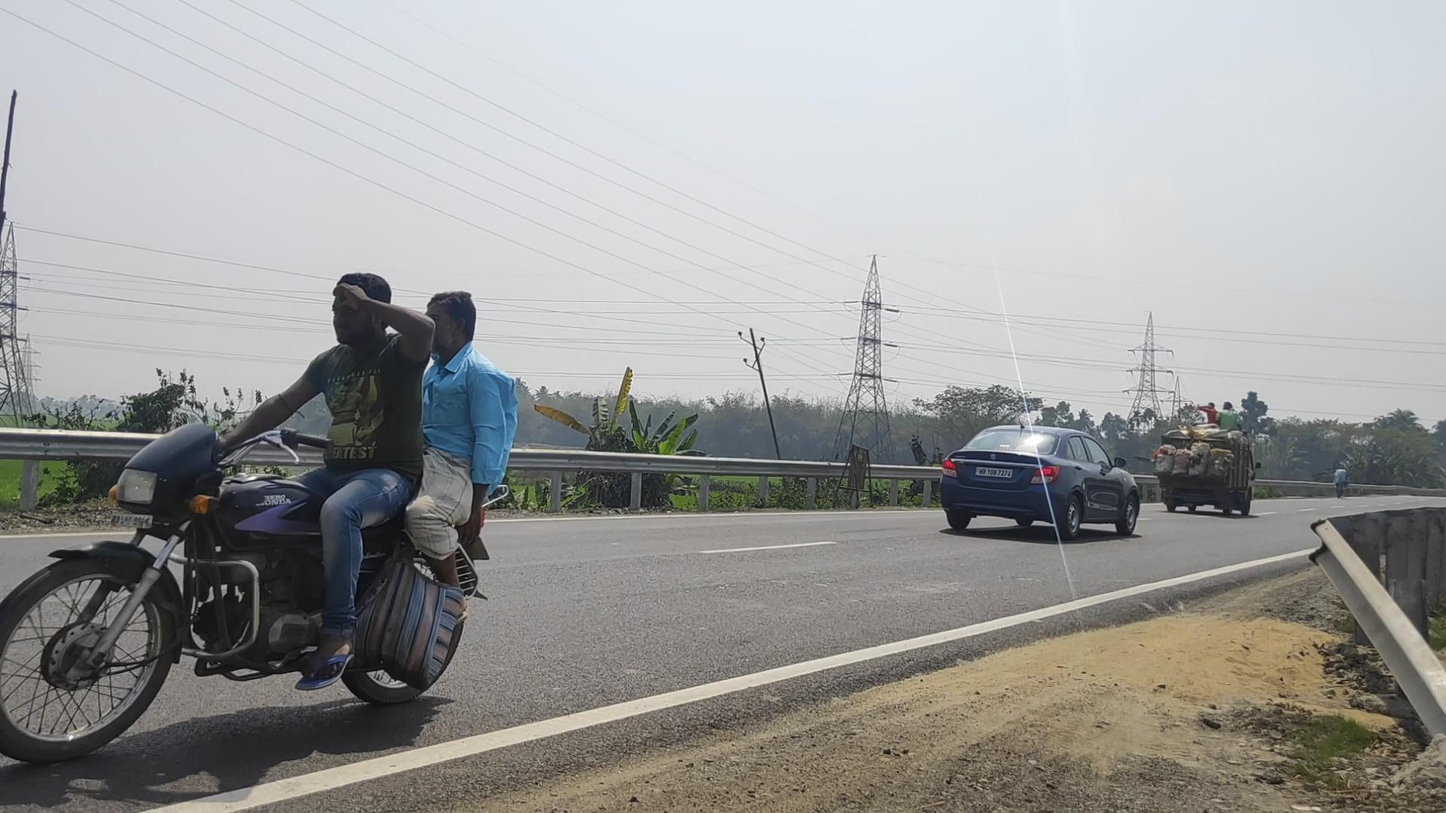bike: (1, 273, 517, 766)
car: (939, 425, 1141, 541)
van: (1156, 402, 1261, 518)
